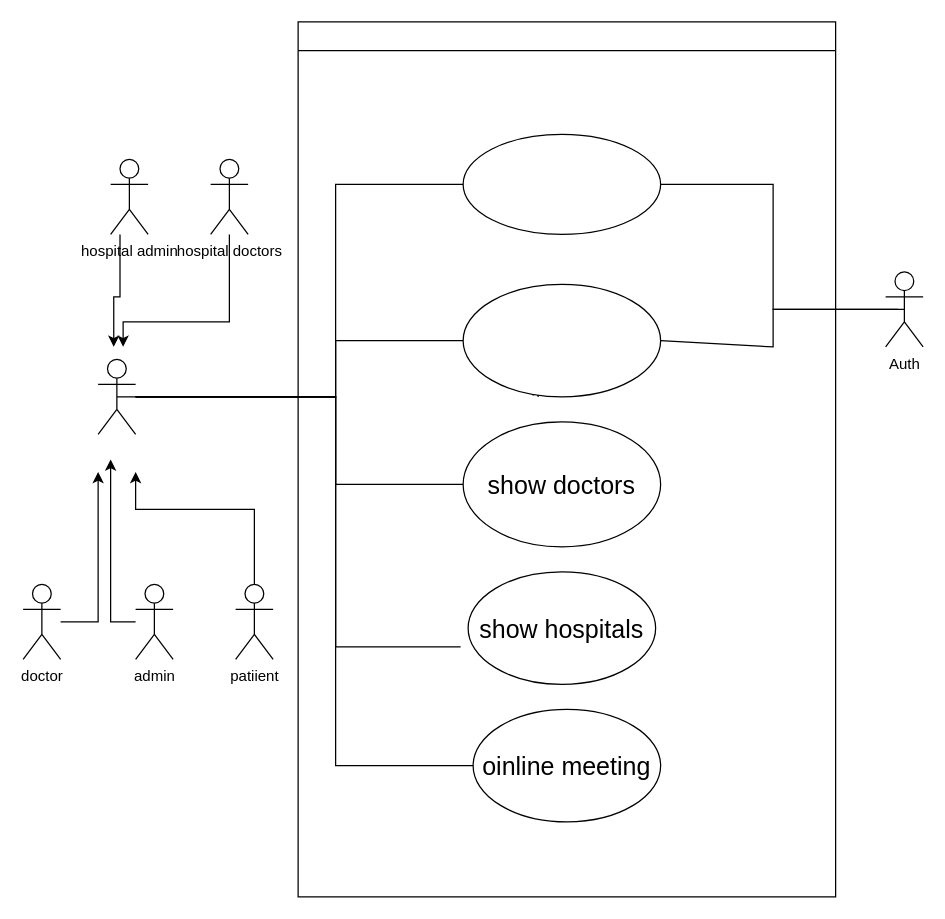
Image size: 945x919. Some labels were removed from this diagram. The box of each missing label's shape, as (x1, y1, x2, y2) in pixels:
Login: (462, 133, 661, 234)
register: (462, 283, 661, 397)
user: (97, 358, 136, 434)
نظام إدارة المواعيد: (297, 21, 836, 897)
